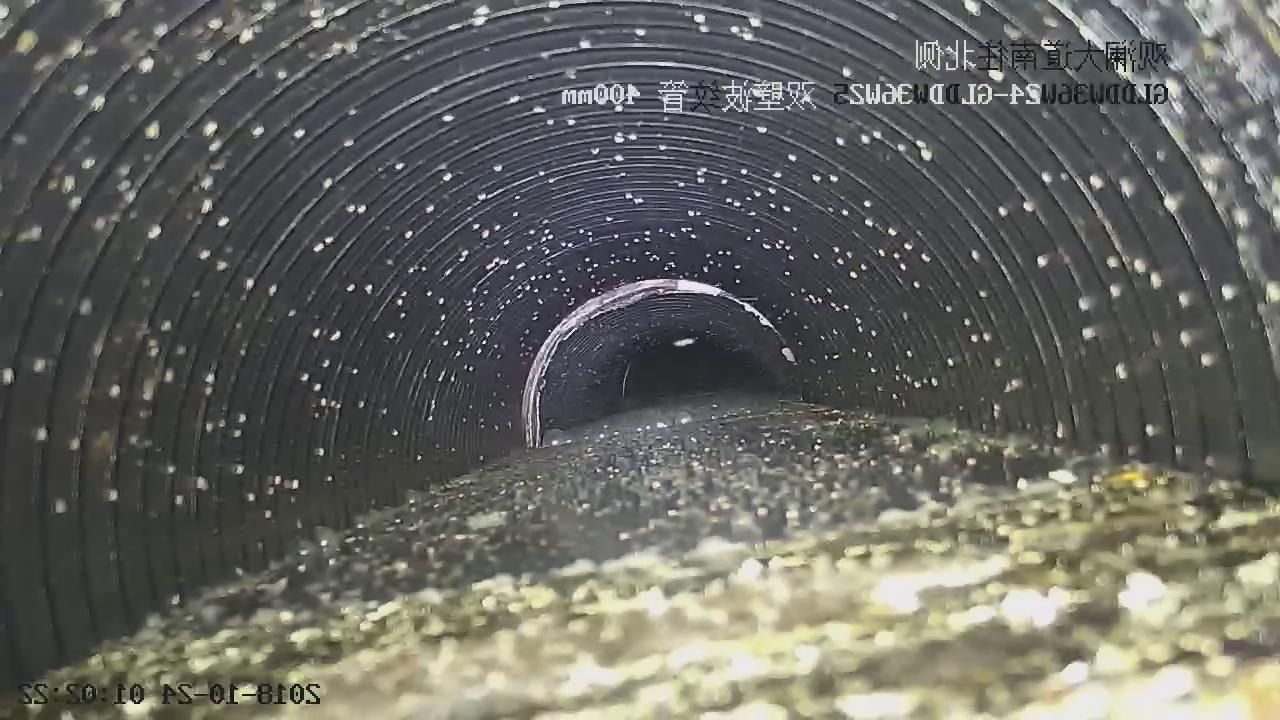CKTJ: (521, 279, 795, 446)
FZ: (22, 394, 1280, 719)
